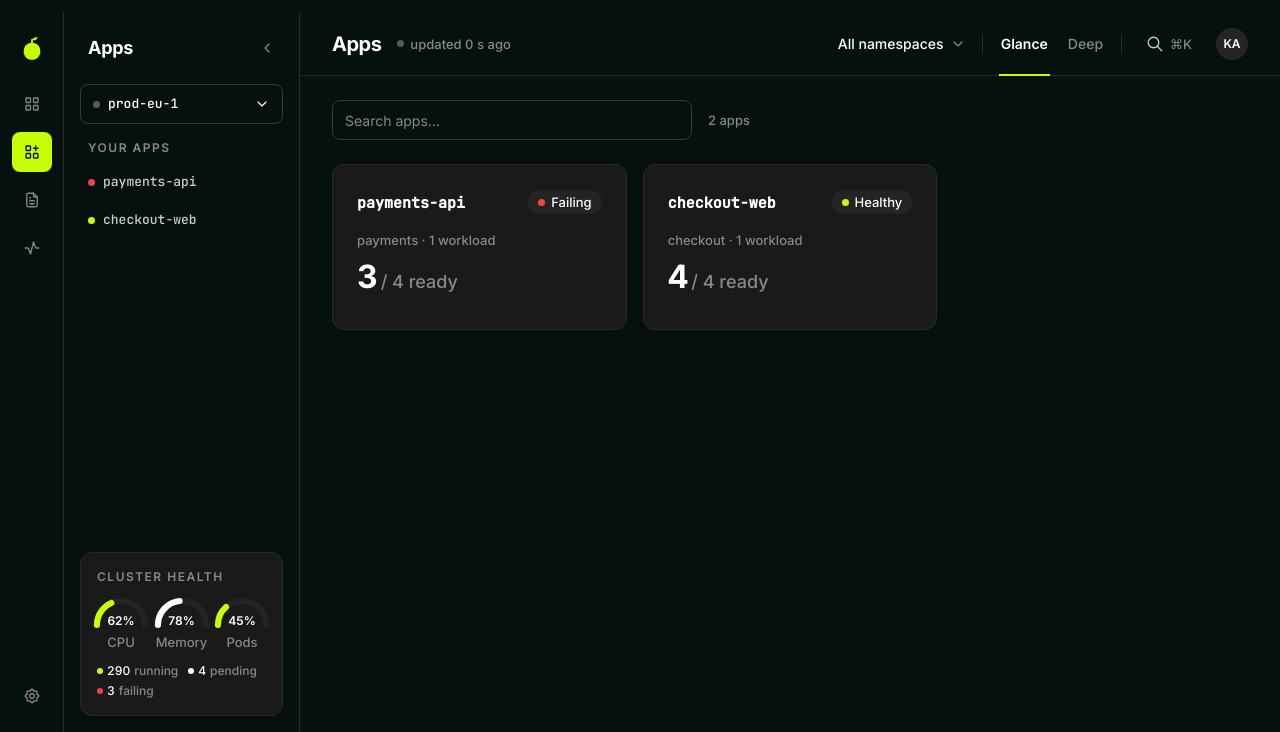
Scenario: Apps page › lists apps, troubled first, and searches them
Expected: the element "payments-api" shows "Failing", [551,194,592,210]
Expected: the text "2 apps" is shown, [708,111,750,129]
Type "checkout" into the search field labelled "Search apps" at (512, 120), box [332,100,692,140]
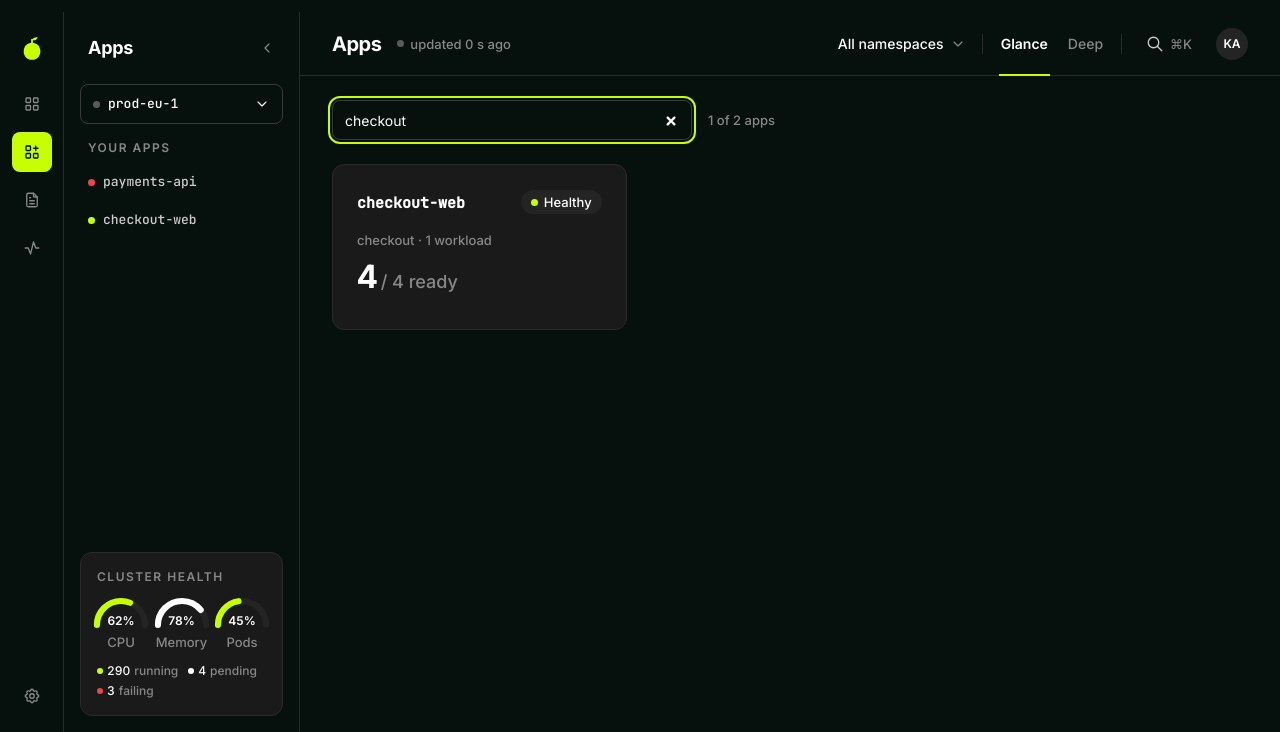
Expected: the text "1 of 2 apps" is shown, [708,111,775,129]
